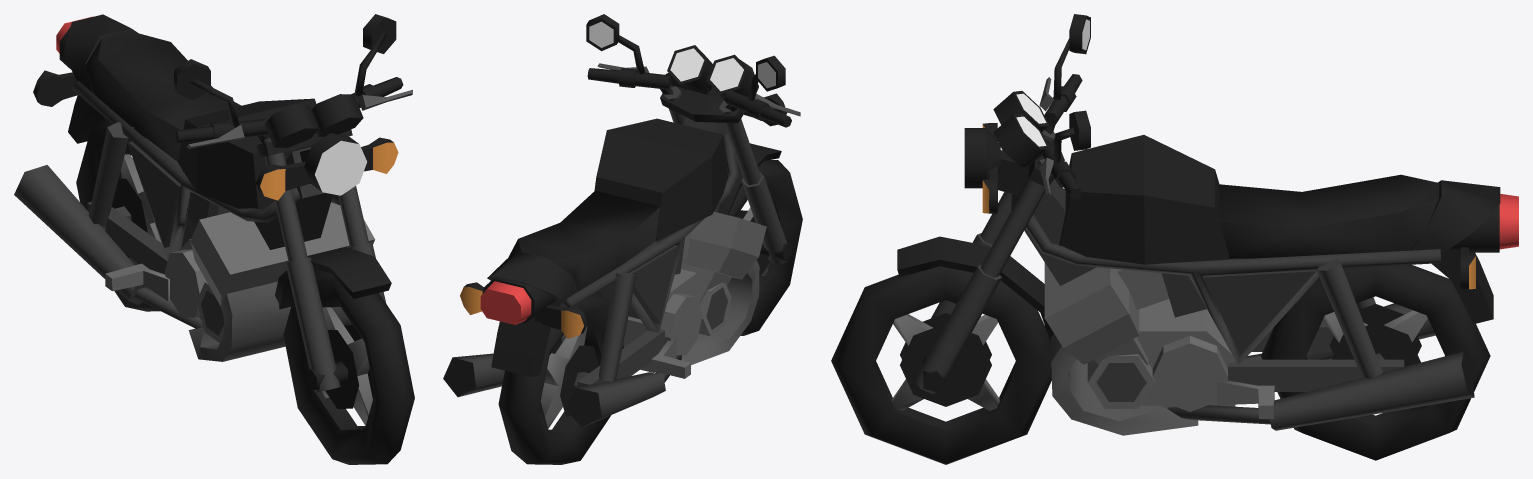
The model's file is Bike_OP 1.fbx.
The picture shows the model from 3 angles, left to right: view 1: azimuth 30°, elevation 25°; view 2: azimuth 150°, elevation 25°; view 3: azimuth 270°, elevation 25°; orthographic projection. The views are drawn at different scales.
Parts seen in each view (by area): view 1: Bike_BLK_OP, Bike_FW_OP, Bike_RW_OP, Bike_BLU_OP; view 2: Bike_BLK_OP, Bike_RW_OP, Bike_FW_OP, Bike_BLU_OP; view 3: Bike_BLK_OP, Bike_FW_OP, Bike_RW_OP.
Boxes of the visible parts, x1,y1,x2,y2 form: Bike_BLK_OP: [14, 14, 412, 392]; Bike_FW_OP: [283, 268, 414, 464]; Bike_RW_OP: [76, 118, 185, 311]; Bike_BLU_OP: [197, 292, 223, 341]; Bike_BLK_OP: [443, 14, 800, 427]; Bike_RW_OP: [498, 291, 623, 464]; Bike_FW_OP: [729, 160, 802, 335]; Bike_BLU_OP: [703, 282, 730, 335]; Bike_BLK_OP: [897, 14, 1518, 435]; Bike_FW_OP: [831, 266, 1051, 464]; Bike_RW_OP: [1261, 264, 1490, 460].
Bounding box in the file's own units: 0.774 × 1.24 × 1.92.
1 material, 1 textured.
